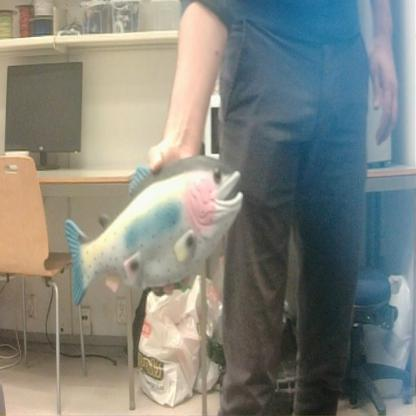rubberfish: (62, 149, 247, 311)
